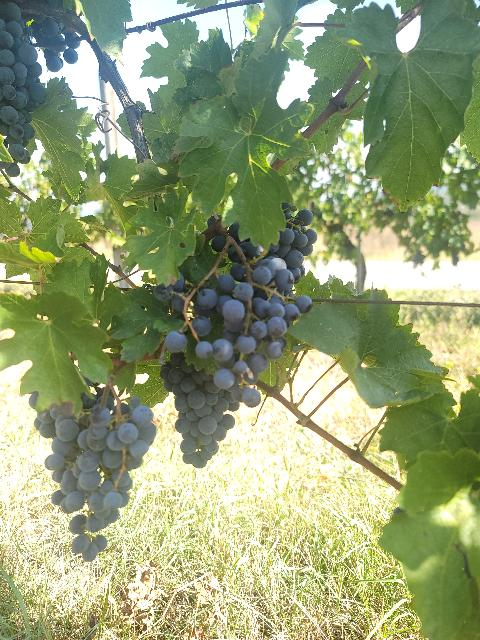grapes: (34, 399, 156, 561), (198, 264, 302, 402), (160, 351, 239, 469), (0, 2, 46, 178)
